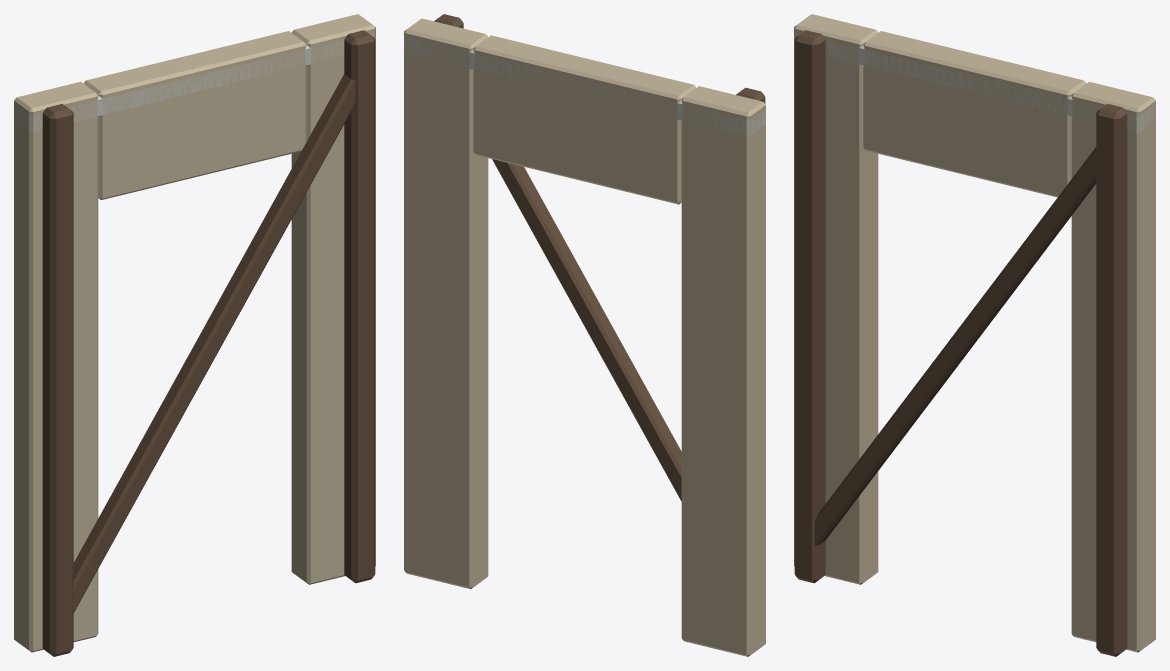
Rendered from architecture-village-door-wall.lod0.glb.
3 views of the same model, side by side, from view 1: azimuth 30°, elevation 25°; view 2: azimuth 150°, elevation 25°; view 3: azimuth 330°, elevation 25° (orthographic).
Parts seen in each view (by area): view 1: architecture-village-door-wall__body; view 2: architecture-village-door-wall__body; view 3: architecture-village-door-wall__body.
Boxes of the visible parts, x1,y1,x2,y2 form: architecture-village-door-wall__body: (14,14,375,656); architecture-village-door-wall__body: (404,14,765,656); architecture-village-door-wall__body: (794,14,1155,656).
Bounding box in the file's own units: 2 × 3 × 0.29.
